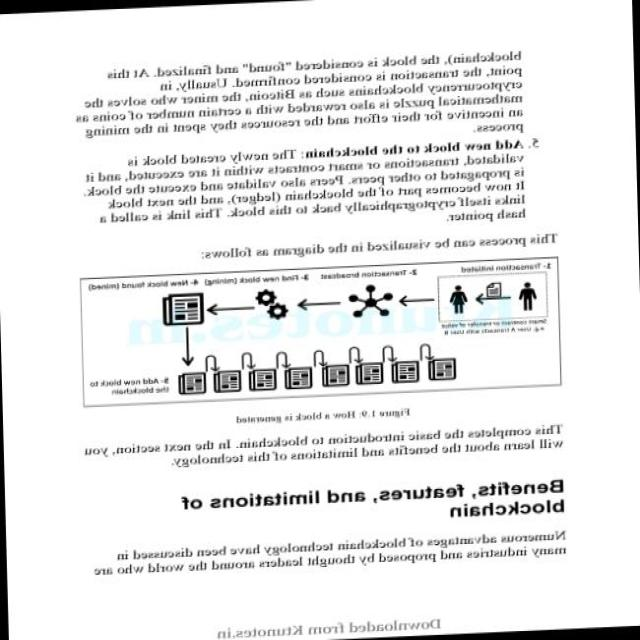Figure Detection - v3 Dataset Version2: (70, 246, 569, 413)
